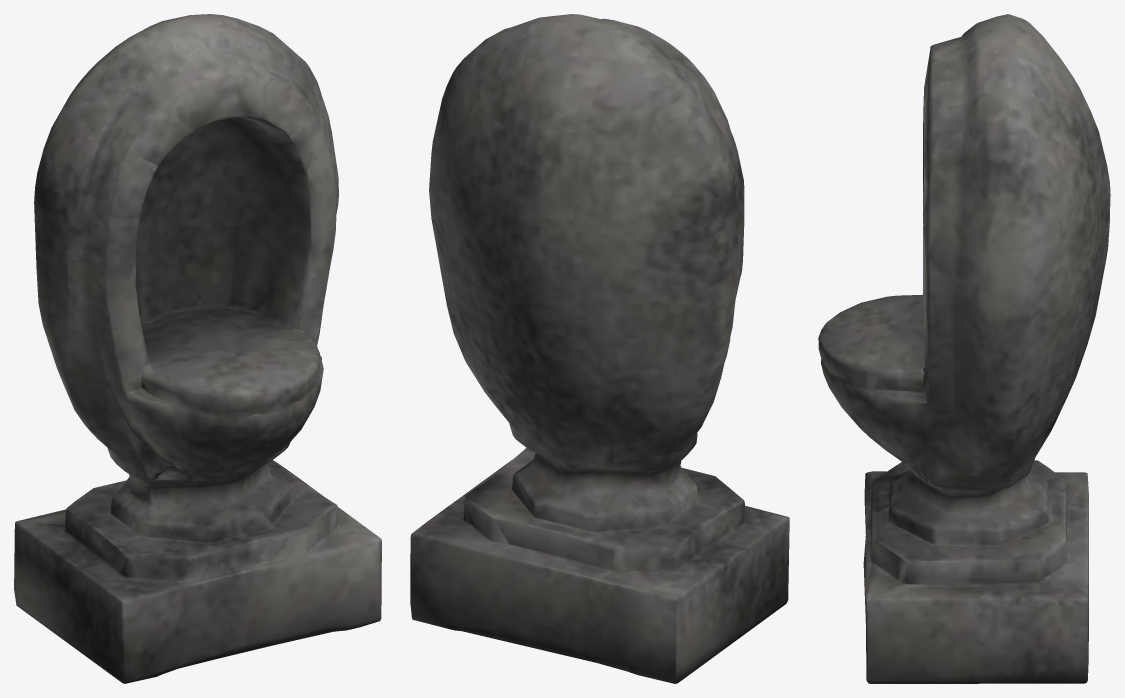
The model's file is worn-granite-throne-v001.glb.
The picture shows the model from 3 angles, left to right: view 1: azimuth 30°, elevation 25°; view 2: azimuth 150°, elevation 25°; view 3: azimuth 270°, elevation 25°; orthographic projection. The views are drawn at different scales.
Visible parts, largest first — view 1: worn-granite-throne; view 2: worn-granite-throne; view 3: worn-granite-throne.
Part boxes in pixels (x1=…): worn-granite-throne: x1=14, y1=14, x2=381, y2=683; worn-granite-throne: x1=410, y1=14, x2=789, y2=683; worn-granite-throne: x1=818, y1=14, x2=1110, y2=683.
Size of the model in its own units: 0.7228 by 1.42 by 0.6348.
1 material, 1 textured.
